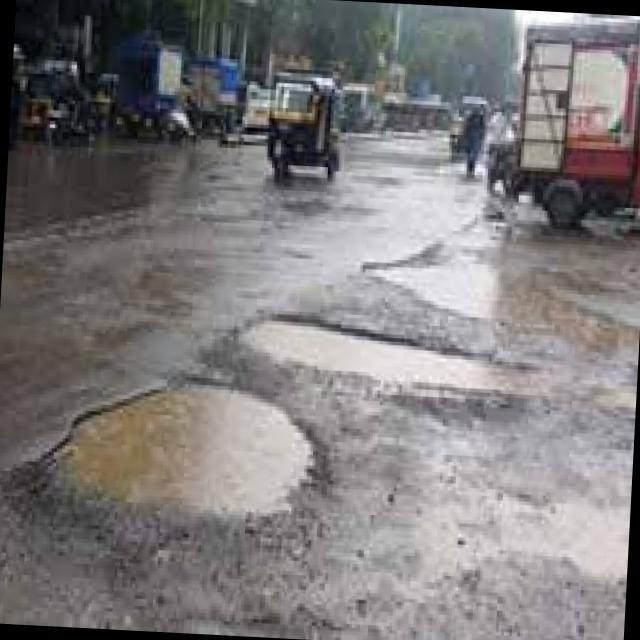pothole: (34, 391, 322, 563), (231, 308, 575, 384), (346, 231, 518, 300)
